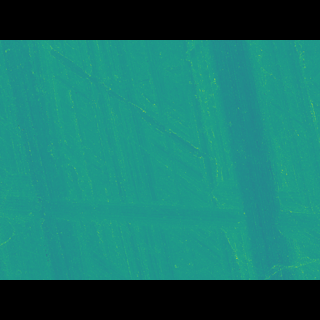Loch: (173, 68, 254, 249), (0, 183, 320, 225)
